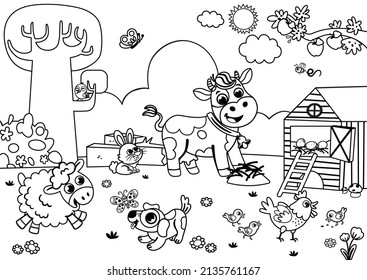animal: (155, 75, 258, 171), (17, 158, 89, 229), (111, 128, 140, 175)
bird: (261, 194, 317, 238), (236, 219, 262, 240), (118, 26, 142, 48), (73, 81, 94, 102), (222, 208, 246, 225), (325, 206, 347, 224)
building: (278, 85, 367, 190)
cloud: (239, 34, 280, 63), (198, 10, 224, 30)
dog: (132, 203, 192, 244)
flower: (339, 227, 364, 262), (187, 235, 206, 251), (26, 238, 42, 255), (202, 241, 219, 253), (11, 242, 24, 257), (200, 194, 212, 204), (103, 178, 111, 187)
fruit: (326, 32, 344, 51), (307, 37, 322, 58), (277, 18, 295, 35)
sun: (229, 3, 260, 34)
tree: (6, 7, 107, 82), (269, 6, 367, 60)
